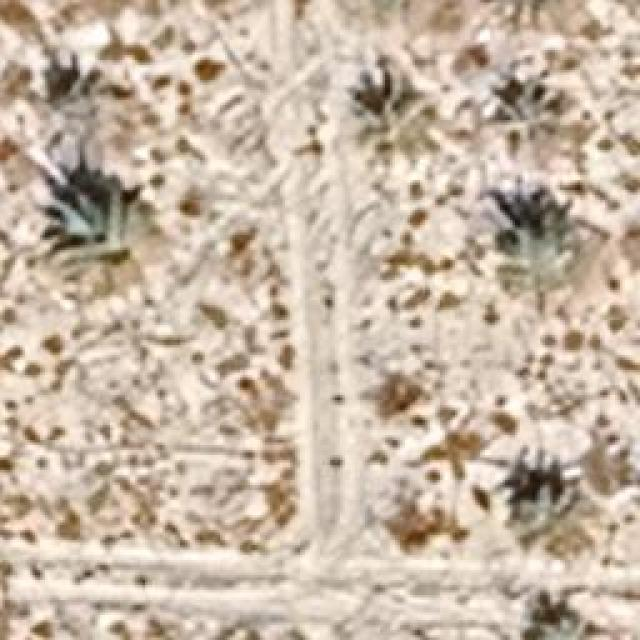PalmTree: (110, 14, 387, 229), (498, 188, 576, 308), (500, 80, 592, 168), (354, 84, 452, 164), (52, 58, 128, 148), (518, 482, 600, 556), (476, 27, 576, 75), (477, 28, 568, 76), (480, 0, 590, 32), (532, 620, 626, 638)
